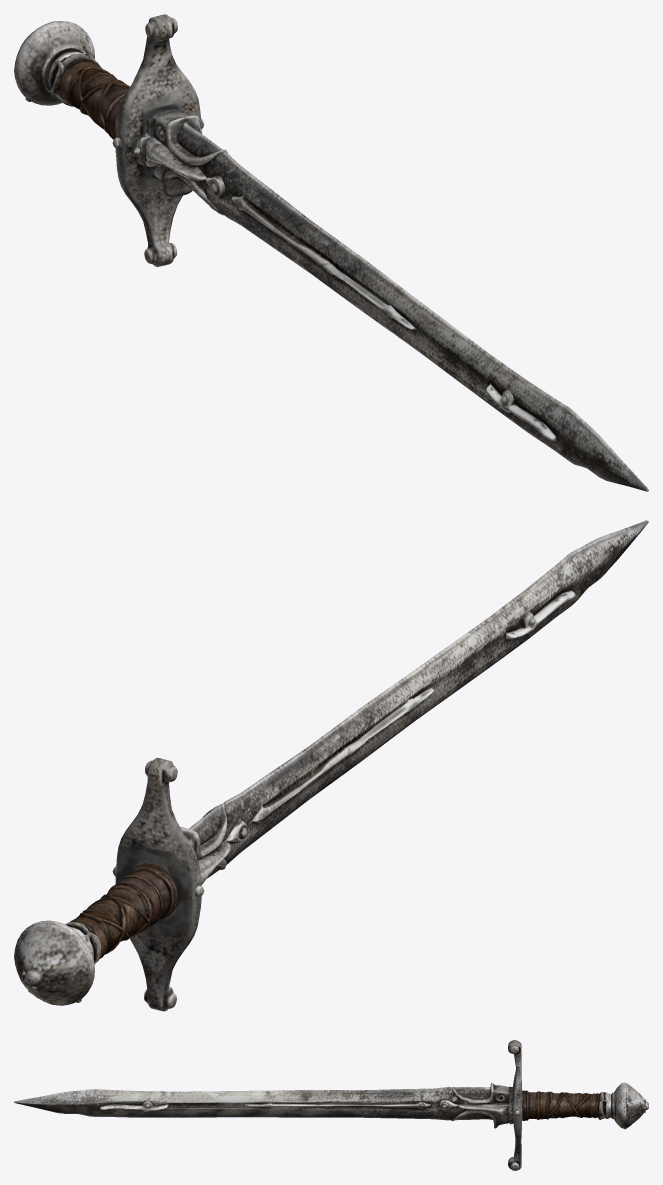
File: longsword.glb
The picture shows the model from 3 angles, top to bottom: view 1: azimuth 30°, elevation 25°; view 2: azimuth 150°, elevation 25°; view 3: azimuth 270°, elevation 25°; orthographic projection. The views are drawn at different scales.
Parts seen in each view (by area): view 1: tripo_node_4703d337-a2af-40c4-85f0-47df84156718; view 2: tripo_node_4703d337-a2af-40c4-85f0-47df84156718; view 3: tripo_node_4703d337-a2af-40c4-85f0-47df84156718.
Part boxes in pixels (left/top/right/bottom): tripo_node_4703d337-a2af-40c4-85f0-47df84156718: left=14, top=14, right=648, bottom=491; tripo_node_4703d337-a2af-40c4-85f0-47df84156718: left=14, top=520, right=648, bottom=1011; tripo_node_4703d337-a2af-40c4-85f0-47df84156718: left=14, top=1040, right=648, bottom=1170.
Size of the model in its own units: 0.0835 by 0.2222 by 0.9995.
1 material, 1 textured.
